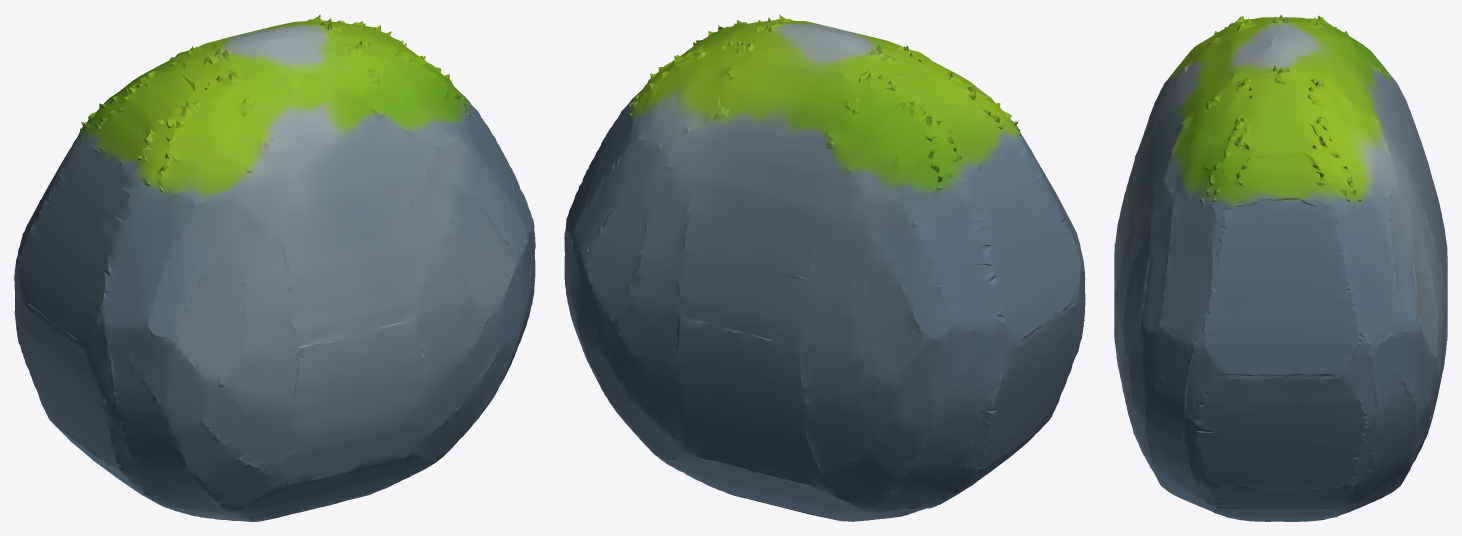
File: Mossy_Boulder.glb
3 views of the same model, side by side, from view 1: azimuth 30°, elevation 25°; view 2: azimuth 150°, elevation 25°; view 3: azimuth 270°, elevation 25° (orthographic). The views are drawn at different scales.
Parts seen in each view (by area): view 1: MossyBoulder; view 2: MossyBoulder; view 3: MossyBoulder.
Part boxes in pixels (x1,y1,x2,y2): MossyBoulder: [14, 14, 535, 521]; MossyBoulder: [564, 14, 1085, 521]; MossyBoulder: [1114, 14, 1447, 521].
Size of the model in its own units: 1.89 by 1.89 by 1.26.
1 material, 1 textured.
